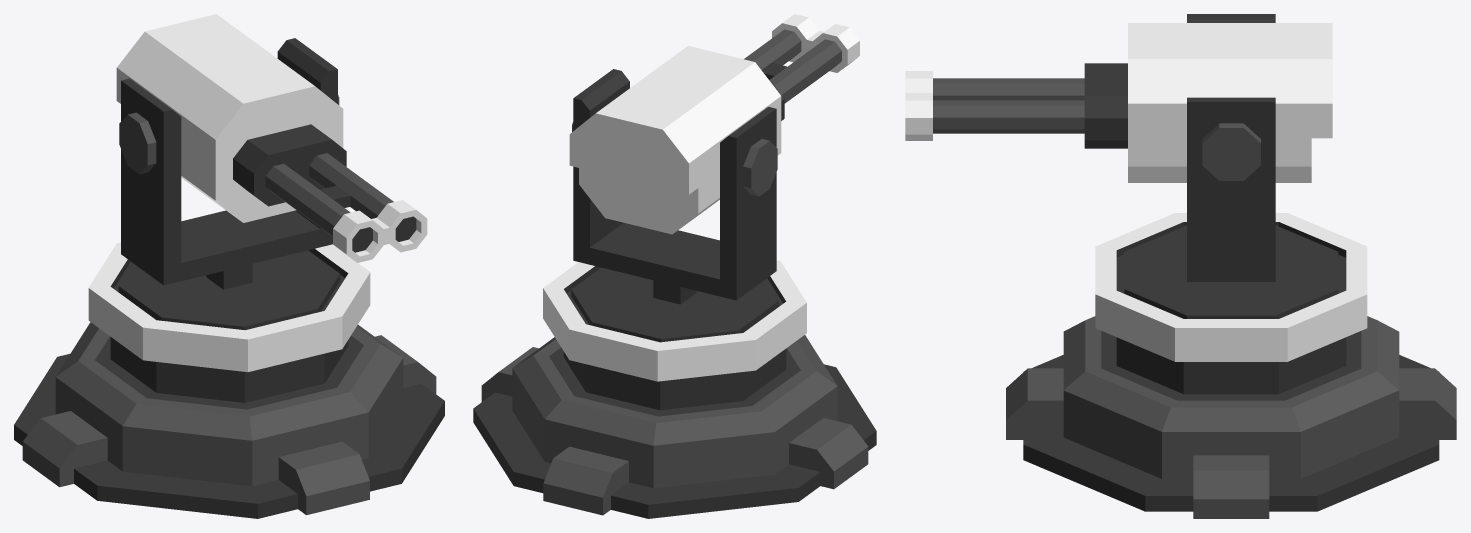
File: AntiAir_1.fbx
3 renders of one model, left to right at view 1: azimuth 30°, elevation 25°; view 2: azimuth 150°, elevation 25°; view 3: azimuth 270°, elevation 25°, orthographic. The views are drawn at different scales.
Parts seen in each view (by area): view 1: Base_Mesh, Upper_Mesh, Body_Mesh, Gun_Mesh; view 2: Upper_Mesh, Base_Mesh, Body_Mesh, Gun_Mesh; view 3: Base_Mesh, Upper_Mesh, Body_Mesh, Gun_Mesh.
Part boxes in pixels (bbox=[...]): Base_Mesh: bbox=[14, 322, 444, 518]; Upper_Mesh: bbox=[88, 38, 370, 402]; Body_Mesh: bbox=[116, 14, 346, 222]; Gun_Mesh: bbox=[265, 153, 427, 262]; Upper_Mesh: bbox=[543, 69, 806, 410]; Base_Mesh: bbox=[473, 335, 876, 518]; Body_Mesh: bbox=[569, 46, 784, 234]; Gun_Mesh: bbox=[744, 14, 859, 103]; Base_Mesh: bbox=[1006, 316, 1456, 518]; Upper_Mesh: bbox=[1095, 14, 1367, 394]; Body_Mesh: bbox=[1084, 23, 1332, 182]; Gun_Mesh: bbox=[905, 71, 1084, 140].
Bounding box in the file's own units: 1.3 × 1.22 × 1.59.
